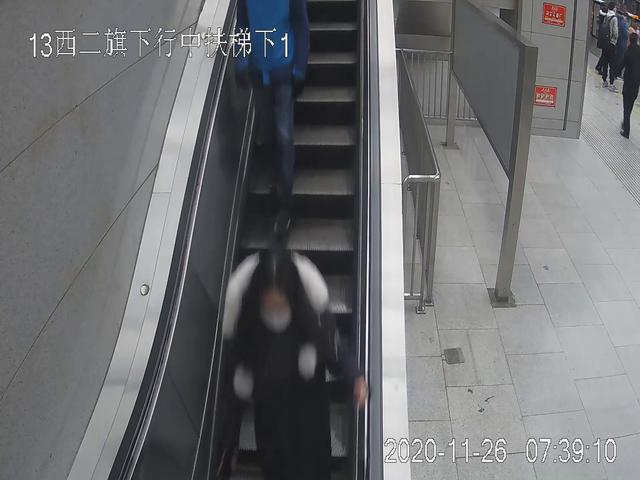person: (218, 252, 370, 480), (232, 1, 308, 246), (619, 32, 640, 137), (597, 2, 621, 93)
